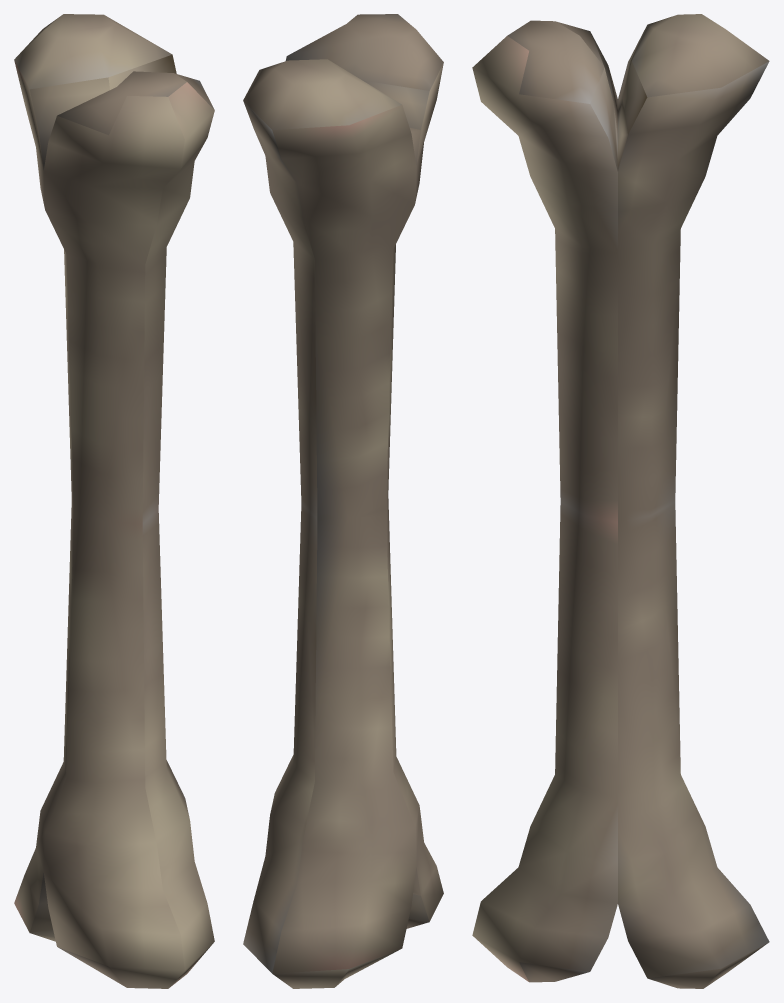
File: Asset_02_bone_v001.obj
3 views of the same model, side by side, from view 1: azimuth 30°, elevation 25°; view 2: azimuth 150°, elevation 25°; view 3: azimuth 270°, elevation 25° (orthographic). The views are drawn at different scales.
Visible parts, largest first — view 1: bone_low; view 2: bone_low; view 3: bone_low.
Part boxes in pixels (x1=…): bone_low: x1=14, y1=14, x2=214, y2=988; bone_low: x1=243, y1=14, x2=443, y2=988; bone_low: x1=472, y1=14, x2=769, y2=988.
Size of the model in its own units: 0.4753 by 2.87 by 0.82.
